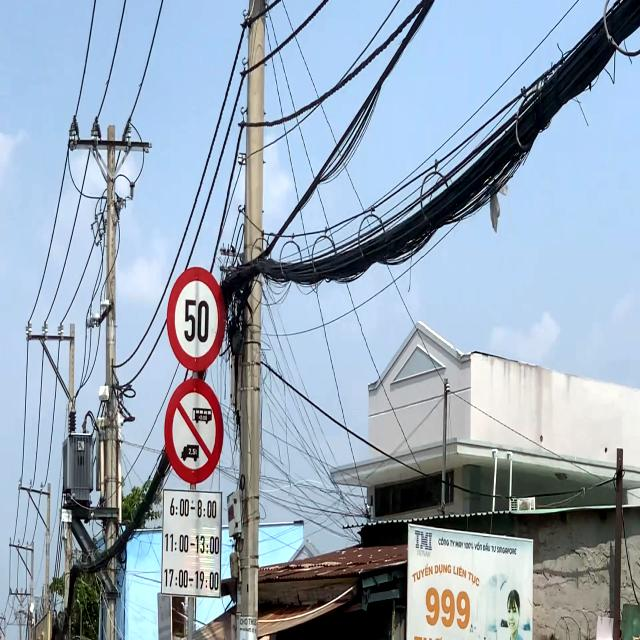P.127: (166, 266, 226, 372)
